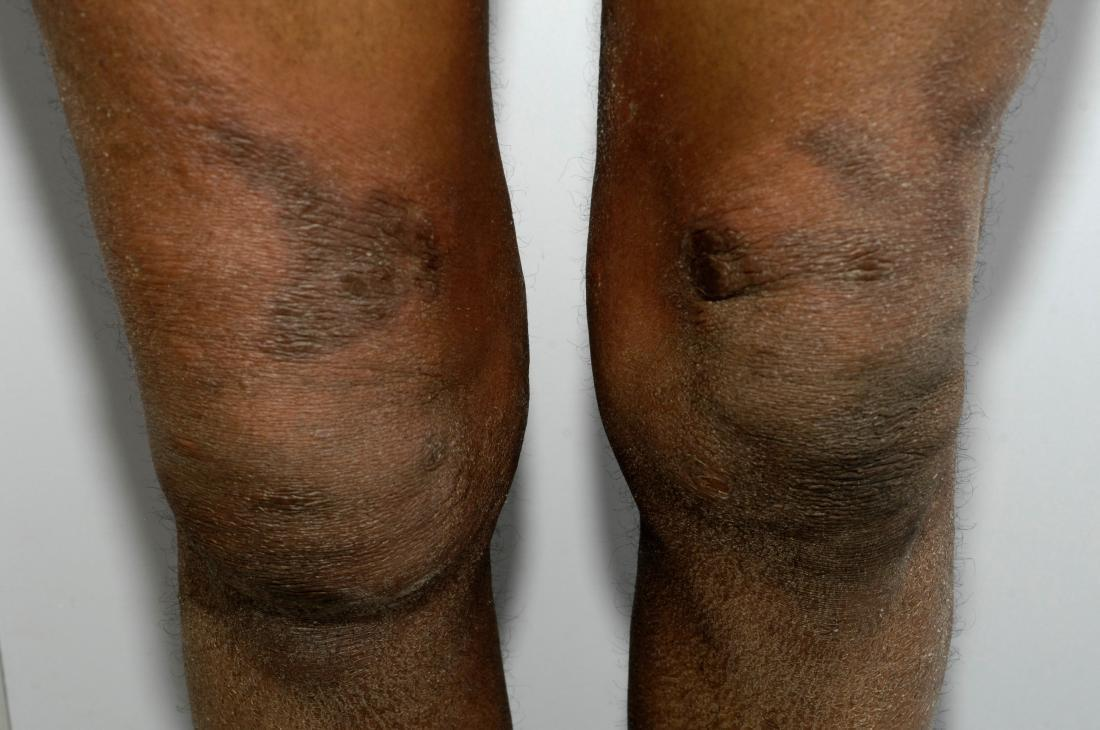Eczema: (140, 113, 516, 587), (685, 141, 950, 533)
